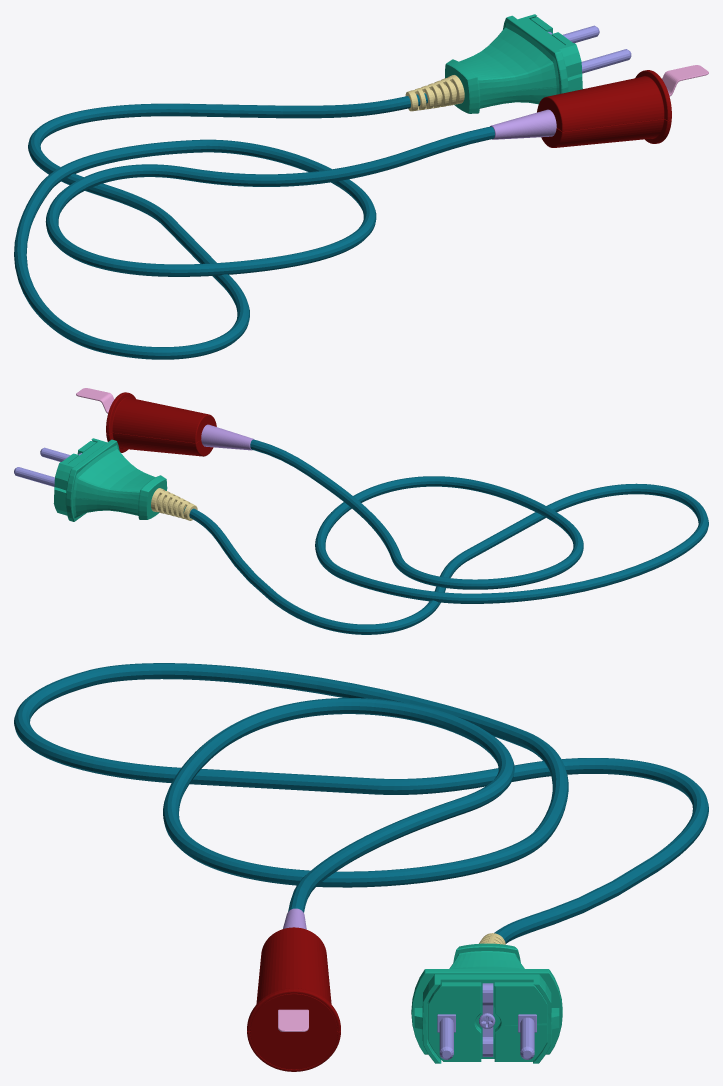
Rendered from boiler.obj.
3 renders of one model, top to bottom at view 1: azimuth 30°, elevation 25°; view 2: azimuth 150°, elevation 25°; view 3: azimuth 270°, elevation 25°, orthographic. The views are drawn at different scales.
Parts seen in each view (by area): view 1: Line006, Cylinder016, Cylinder001, Cylinder017, Cylinder018, Box2106, Line007; view 2: Line006, Cylinder016, Cylinder001, Cylinder018, Cylinder017, Box2106, Line007; view 3: Line006, Cylinder016, Cylinder001, Box2106, Object046, Line007.
Boxes of the visible parts, bbox=[...] form: Line006: bbox=[14, 93, 494, 359]; Cylinder016: bbox=[445, 14, 582, 113]; Cylinder001: bbox=[537, 70, 671, 147]; Cylinder017: bbox=[405, 75, 464, 111]; Cylinder018: bbox=[490, 109, 556, 139]; Box2106: bbox=[563, 25, 631, 73]; Line007: bbox=[662, 65, 708, 96]; Line006: bbox=[183, 439, 708, 634]; Cylinder016: bbox=[53, 438, 167, 521]; Cylinder001: bbox=[106, 392, 216, 456]; Cylinder018: bbox=[201, 424, 253, 450]; Cylinder017: bbox=[151, 488, 197, 520]; Box2106: bbox=[14, 447, 70, 486]; Line007: bbox=[76, 388, 114, 413]; Line006: bbox=[14, 663, 708, 943]; Cylinder016: bbox=[411, 943, 562, 1063]; Cylinder001: bbox=[247, 927, 340, 1071]; Box2106: bbox=[437, 1013, 536, 1059]; Object046: bbox=[482, 983, 493, 1056]; Line007: bbox=[278, 1009, 308, 1031].
Size of the model in its own units: 102 by 9.88 by 69.37.
